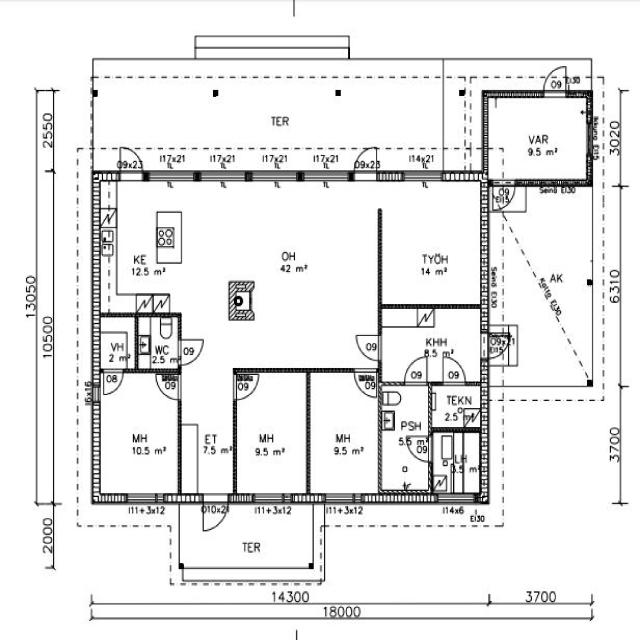door: (391, 431, 432, 474), (351, 331, 385, 364), (402, 353, 432, 386), (200, 498, 229, 532), (541, 64, 569, 99), (438, 354, 467, 387), (154, 368, 182, 401), (489, 180, 517, 212), (232, 369, 260, 401), (117, 144, 145, 176), (177, 336, 205, 366), (406, 435, 434, 464), (352, 368, 379, 398), (101, 368, 124, 396)
window: (245, 167, 302, 188), (296, 167, 352, 186), (196, 167, 252, 186), (146, 168, 198, 184), (399, 168, 443, 186), (322, 490, 364, 506), (436, 490, 476, 505), (252, 490, 287, 507), (126, 491, 160, 506)
zone: (96, 180, 383, 334), (379, 178, 485, 307), (94, 370, 180, 500), (307, 369, 380, 502), (483, 96, 592, 183), (235, 370, 309, 498), (378, 304, 486, 382), (378, 390, 432, 492), (431, 430, 485, 500), (379, 383, 432, 439), (429, 381, 487, 430), (91, 313, 138, 373), (136, 313, 180, 371), (486, 325, 512, 365)
